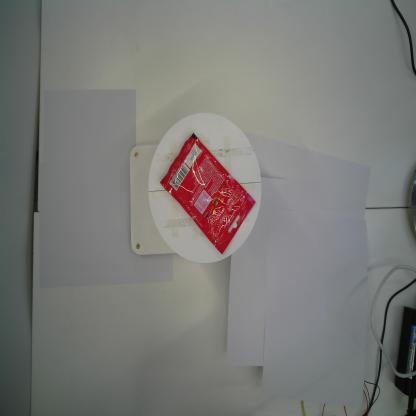Candy: (159, 132, 256, 255)
